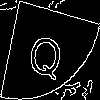Q: (24, 25, 67, 82)
